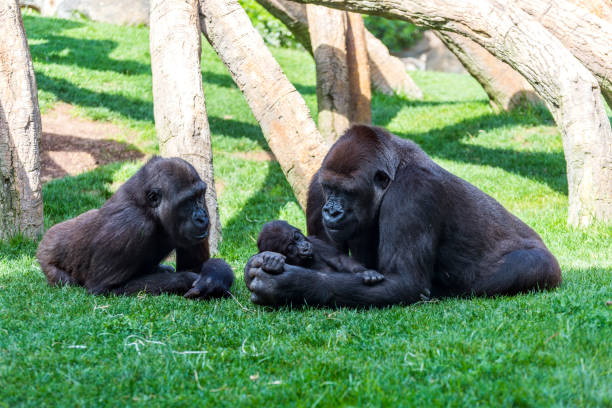chimpanzee: (305, 106, 390, 258), (137, 151, 218, 250)
